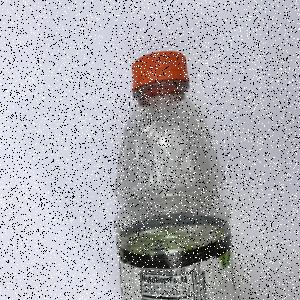Plastic-bottle: (112, 50, 237, 300)
